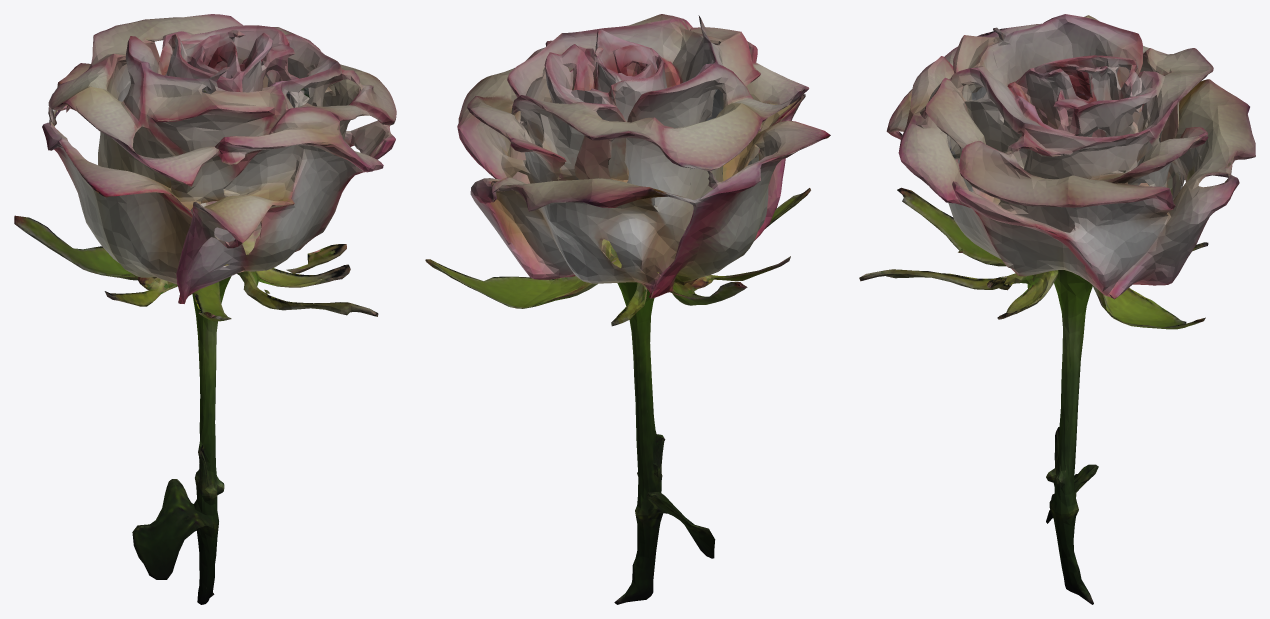
3 views of the same model, side by side, from view 1: azimuth 30°, elevation 25°; view 2: azimuth 150°, elevation 25°; view 3: azimuth 270°, elevation 25° (orthographic). The views are drawn at different scales.
Parts seen in each view (by area): view 1: world; view 2: world; view 3: world.
Part boxes in pixels (bbox=[...]): world: bbox=[14, 14, 396, 604]; world: bbox=[425, 14, 830, 604]; world: bbox=[859, 14, 1255, 604].
Size of the model in its own units: 0.5691 by 0.9674 by 0.6199.
1 material, 1 textured.
